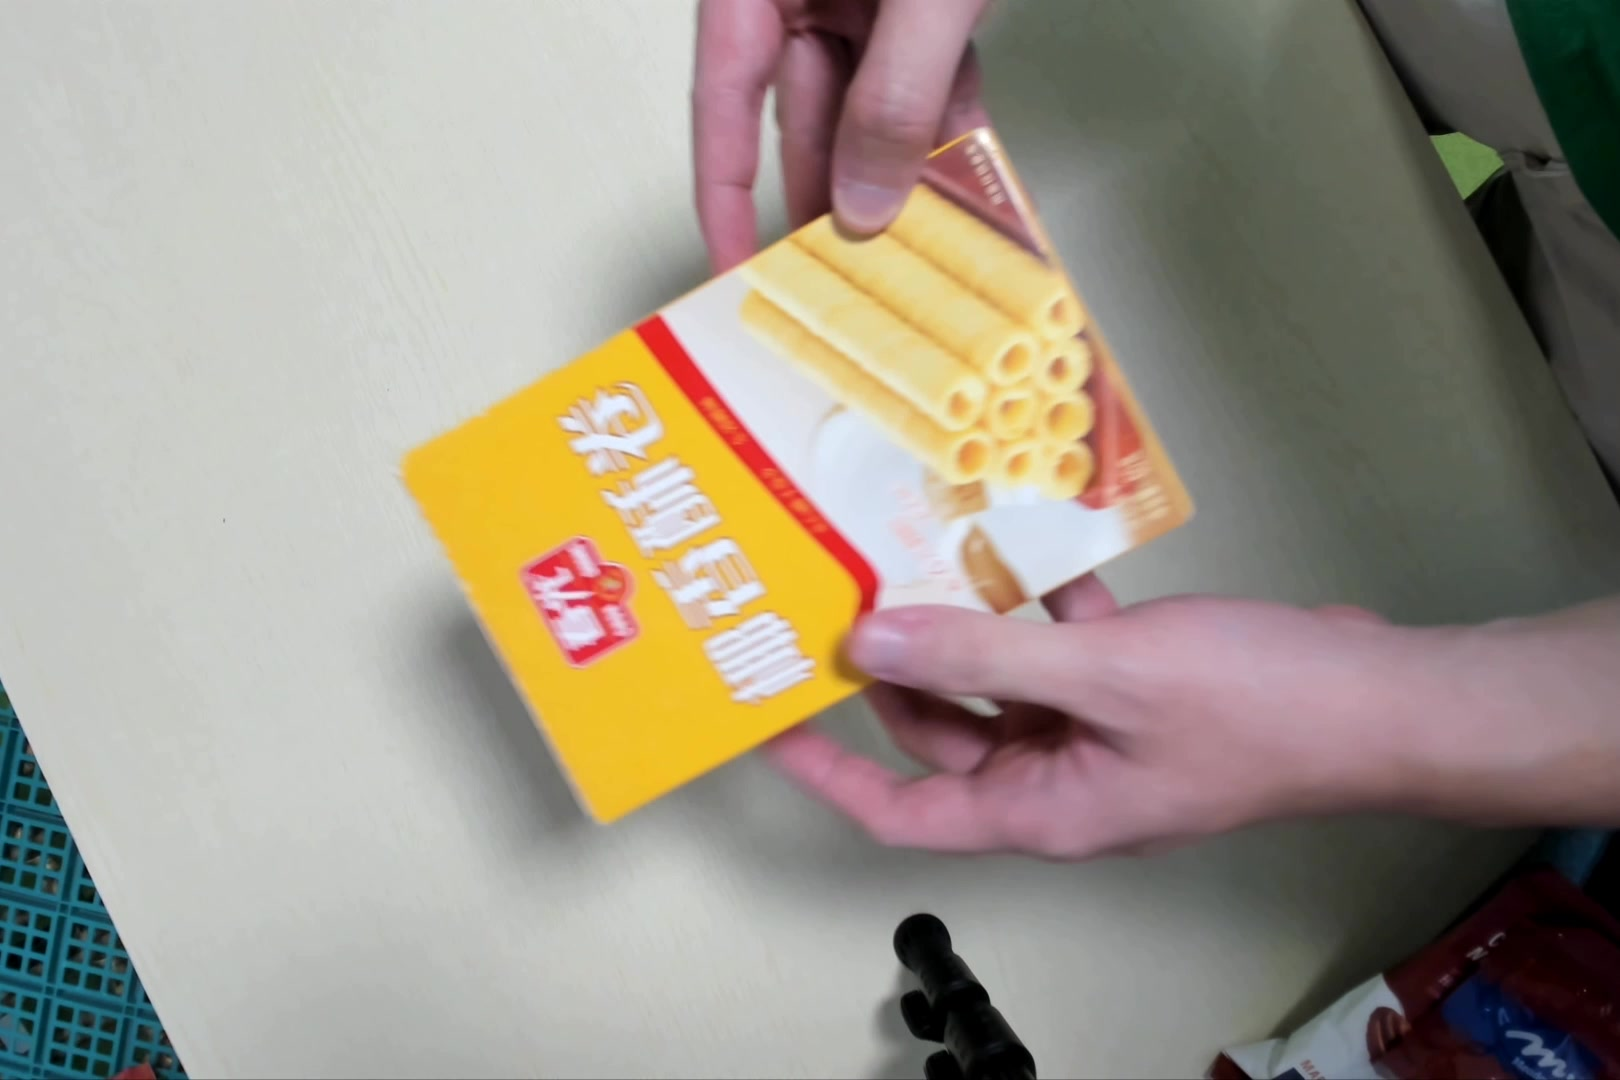BiscuitsCrackersCookies_0-99g_NonHalal_NonHealthy: (398, 130, 1195, 837)
